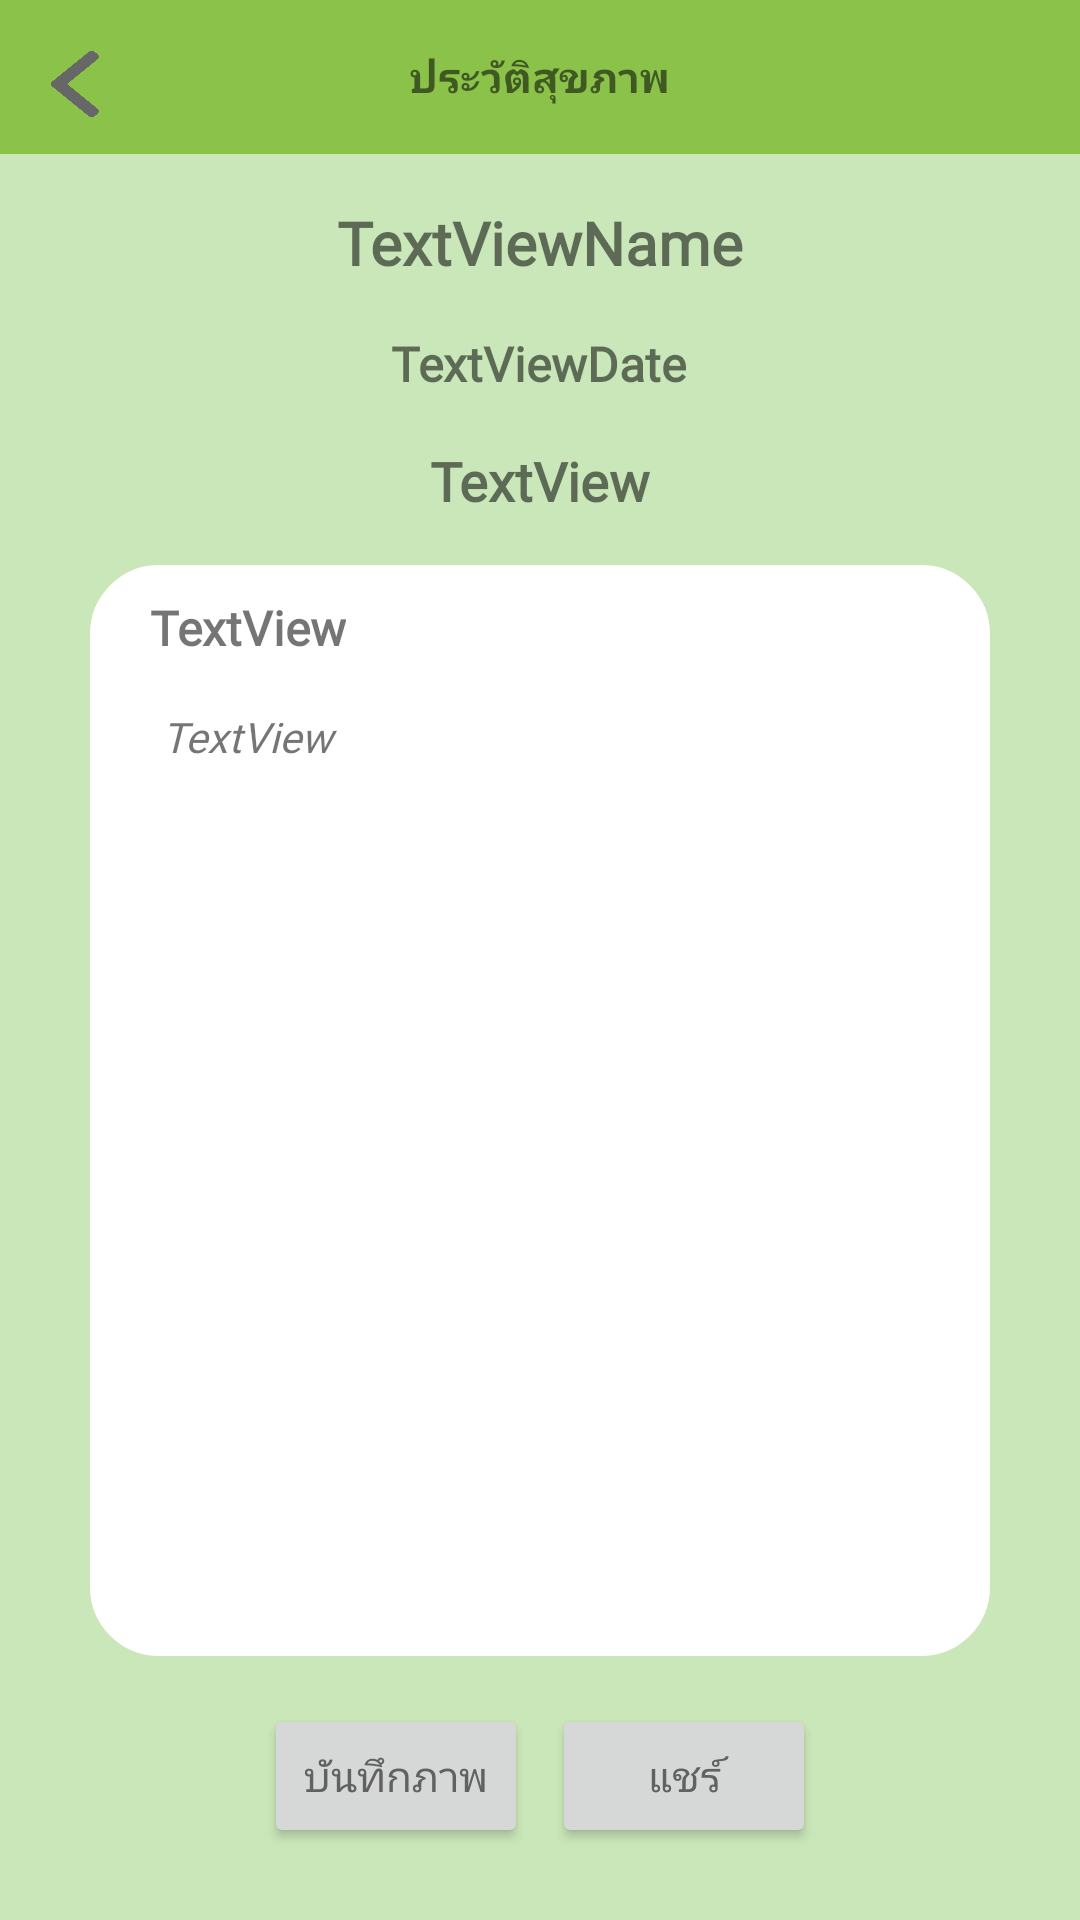

Icon click points for this 1080 x 1920 phone screenshot, format (x=x, y=y):
left arrow: (x=75, y=84)
